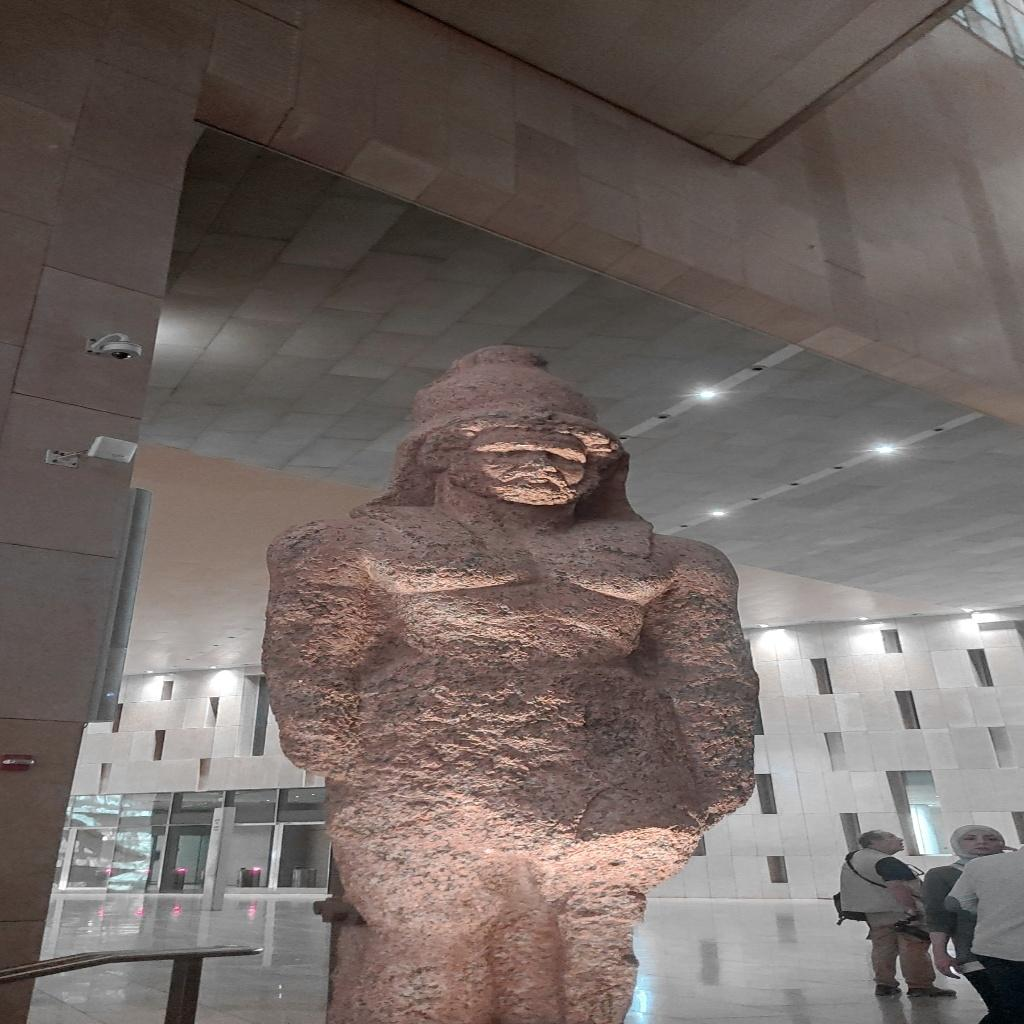Statue of Carcala: (254, 342, 766, 1022)
